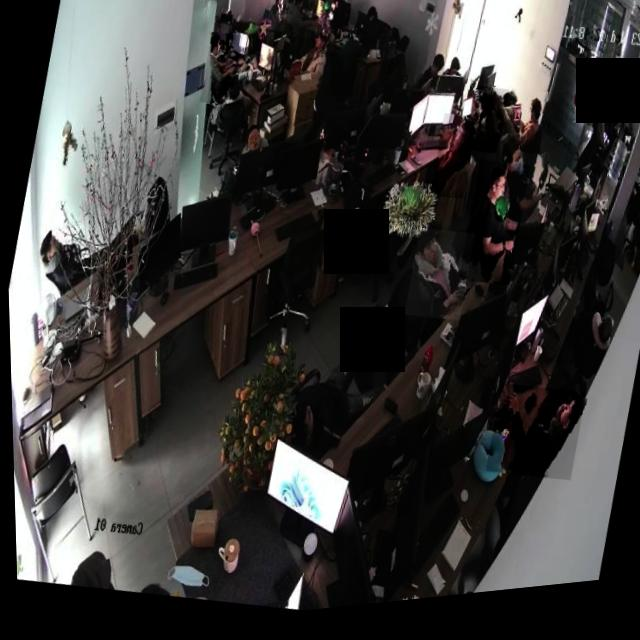person: (480, 387, 585, 500), (453, 166, 531, 300), (400, 232, 475, 335), (476, 91, 548, 164), (426, 120, 478, 211), (497, 160, 549, 242), (284, 27, 336, 97), (197, 34, 243, 113), (464, 94, 508, 166), (279, 0, 318, 47), (411, 58, 446, 104), (264, 0, 291, 39)
